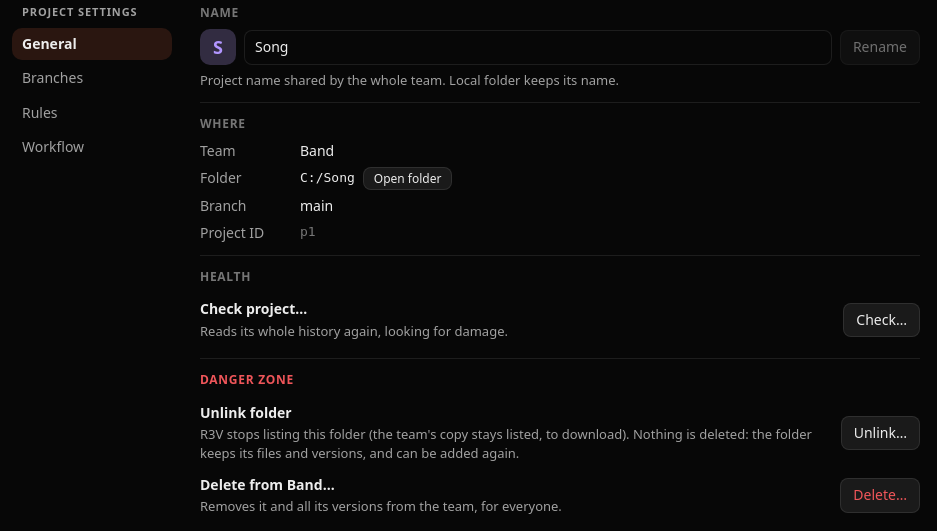
ProjectSettings in tabs › groups its sections in tabs, and remembers the one picked
Expected: the field named "Project name" is shown, [244,30,832,64]
Expected: the heading "Danger zone" is shown, [200,371,294,388]
Click the button "Rules" at (92,113), box [12,96,172,129]
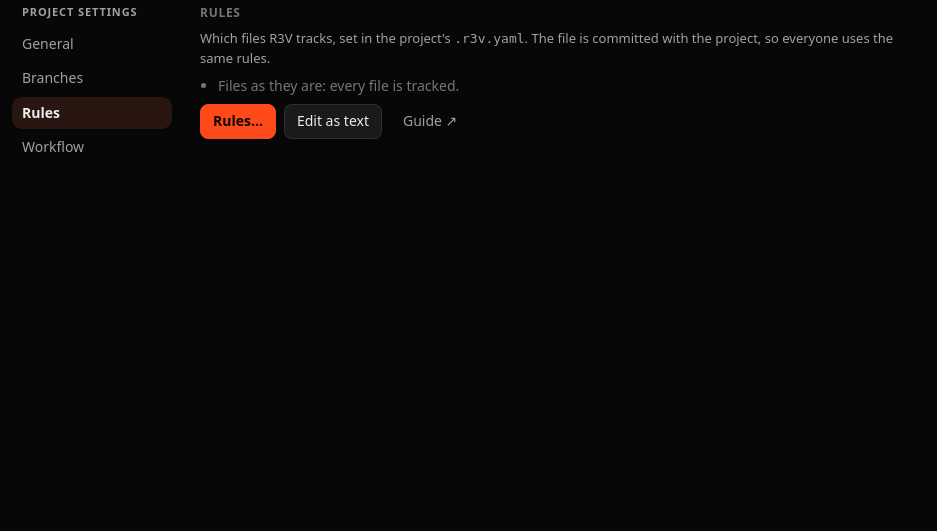
Result: the button "Rules…" is shown at [200,104,276,139]
Result: the text labelled "Project name" is gone
Click the button "Workflow" at (92,147), box [12,131,172,163]
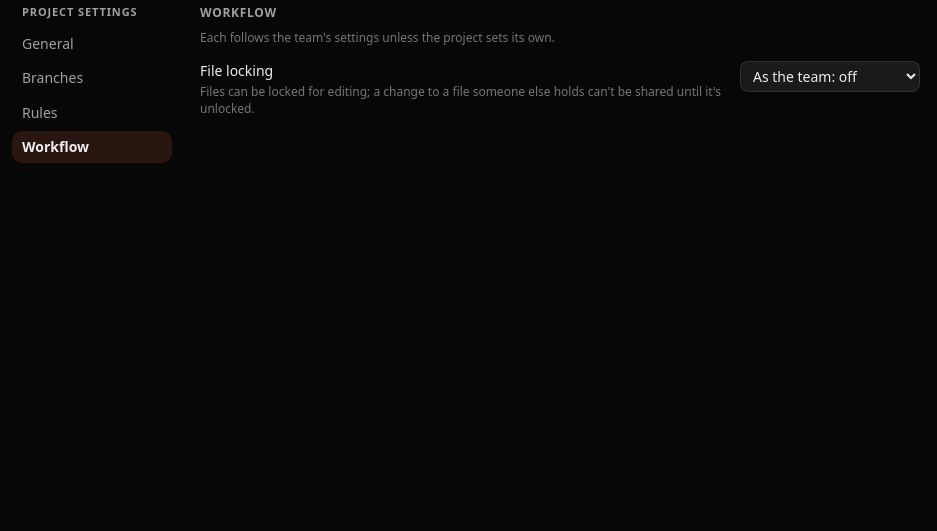
Result: the dropdown named "File locking" is shown at [740,61,920,92]
